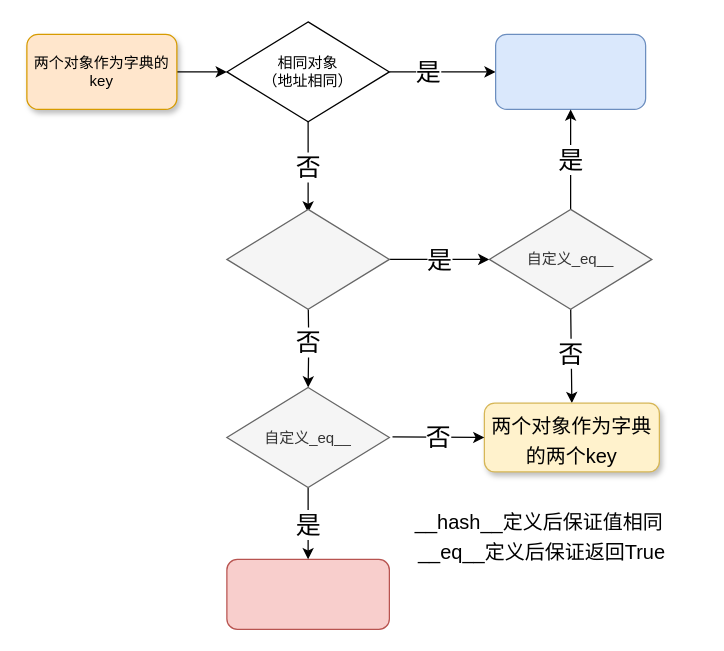
The diagram is 724 pixels wide and 651 high, and some of its shapes have lost their labels. The shapes that lost their labels are listed below. From the top down, each one's centre as x and y in pixels, then its label:
At [570,71]: "只有一个key 后者值覆盖前者值".
At [307,258]: "自定义__hash__".
At [307,593]: "TypeError: unhashable type".
